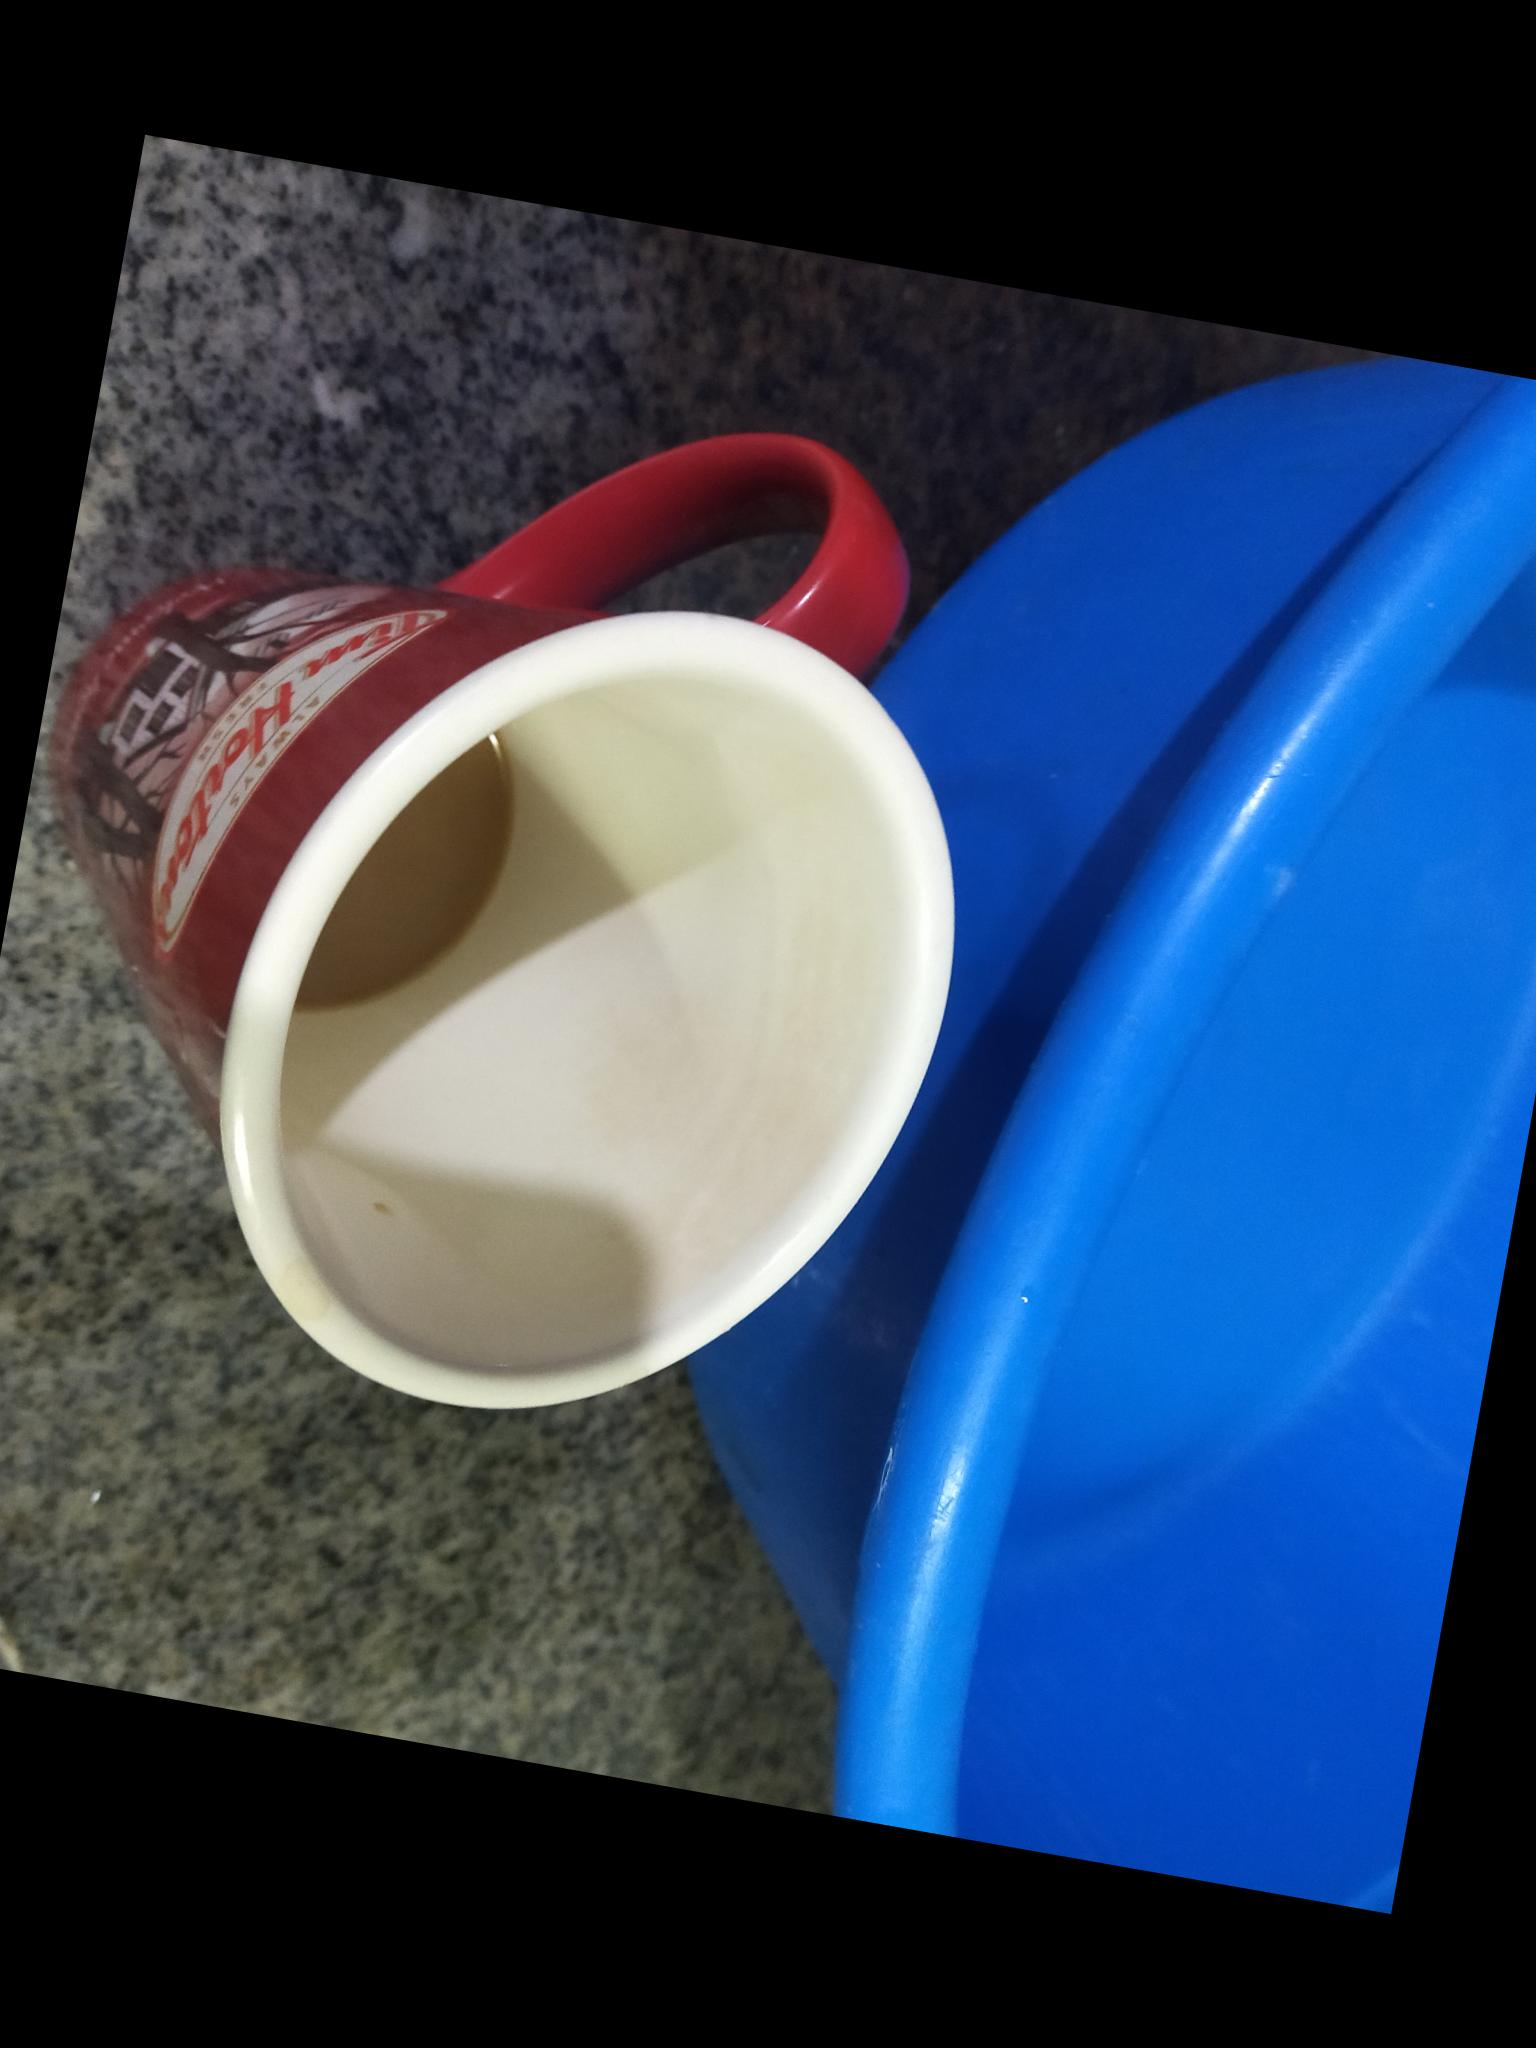Coffee Mug: (0, 311, 1039, 1482)
